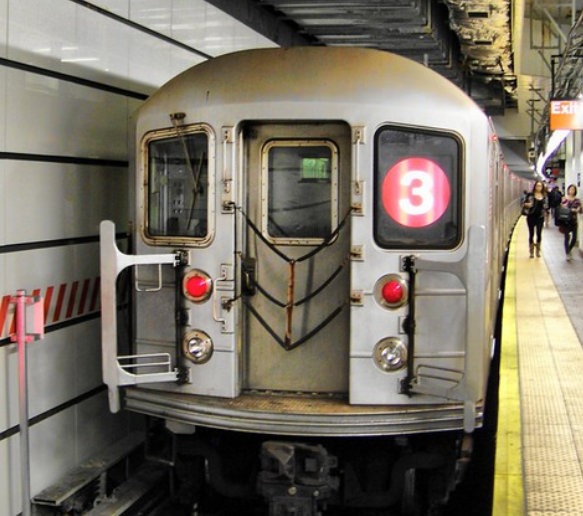train: (112, 44, 489, 433)
